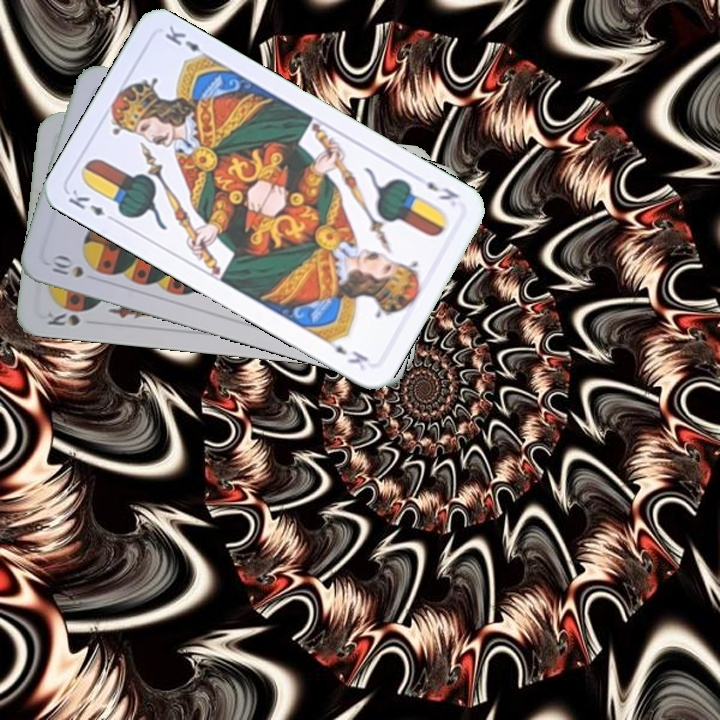EK: (64, 185, 120, 225), (422, 177, 462, 203)
S10: (47, 251, 86, 280)
SK: (43, 308, 83, 329)
